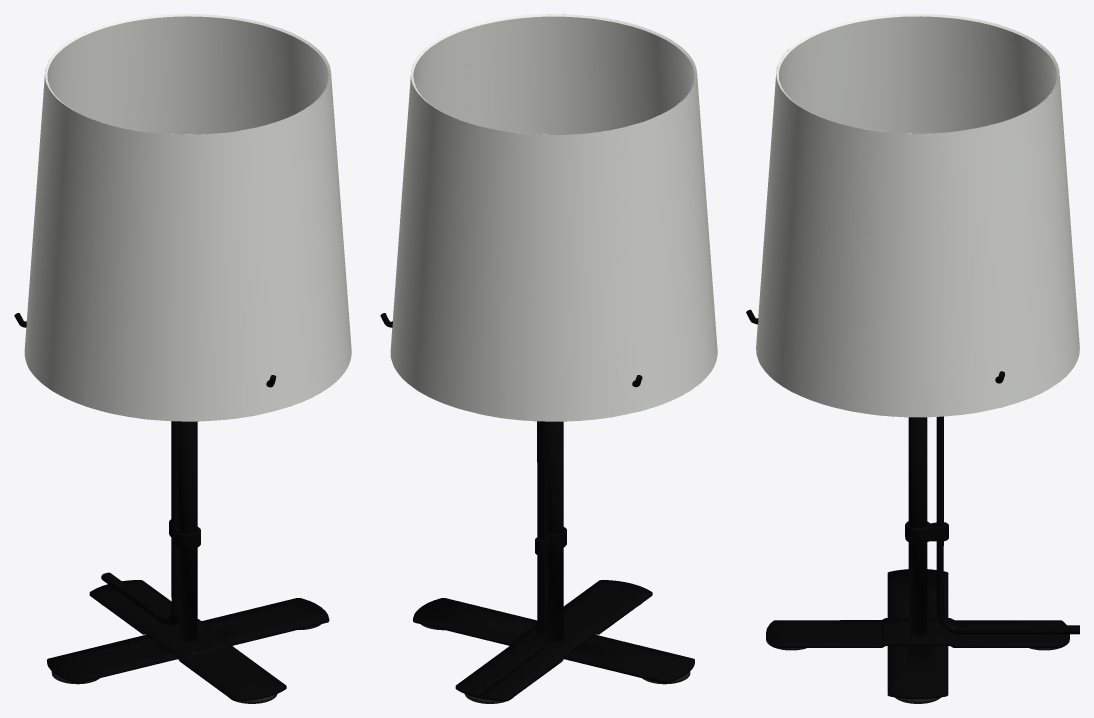
The model's file is barlast_lampa_stoowa_00504557.glb.
3 renders of one model, left to right at view 1: azimuth 30°, elevation 25°; view 2: azimuth 150°, elevation 25°; view 3: azimuth 270°, elevation 25°, orthographic.
Parts seen in each view (by area): view 1: barlast_lampa_stoowa_00504557; view 2: barlast_lampa_stoowa_00504557; view 3: barlast_lampa_stoowa_00504557.
Boxes of the visible parts, x1=… form: barlast_lampa_stoowa_00504557: x1=14, y1=14, x2=351, y2=703; barlast_lampa_stoowa_00504557: x1=380, y1=14, x2=717, y2=703; barlast_lampa_stoowa_00504557: x1=746, y1=14, x2=1079, y2=703.
Bounding box in the file's own units: 0.1598 × 0.3084 × 0.1649.
1 material, 1 textured.
